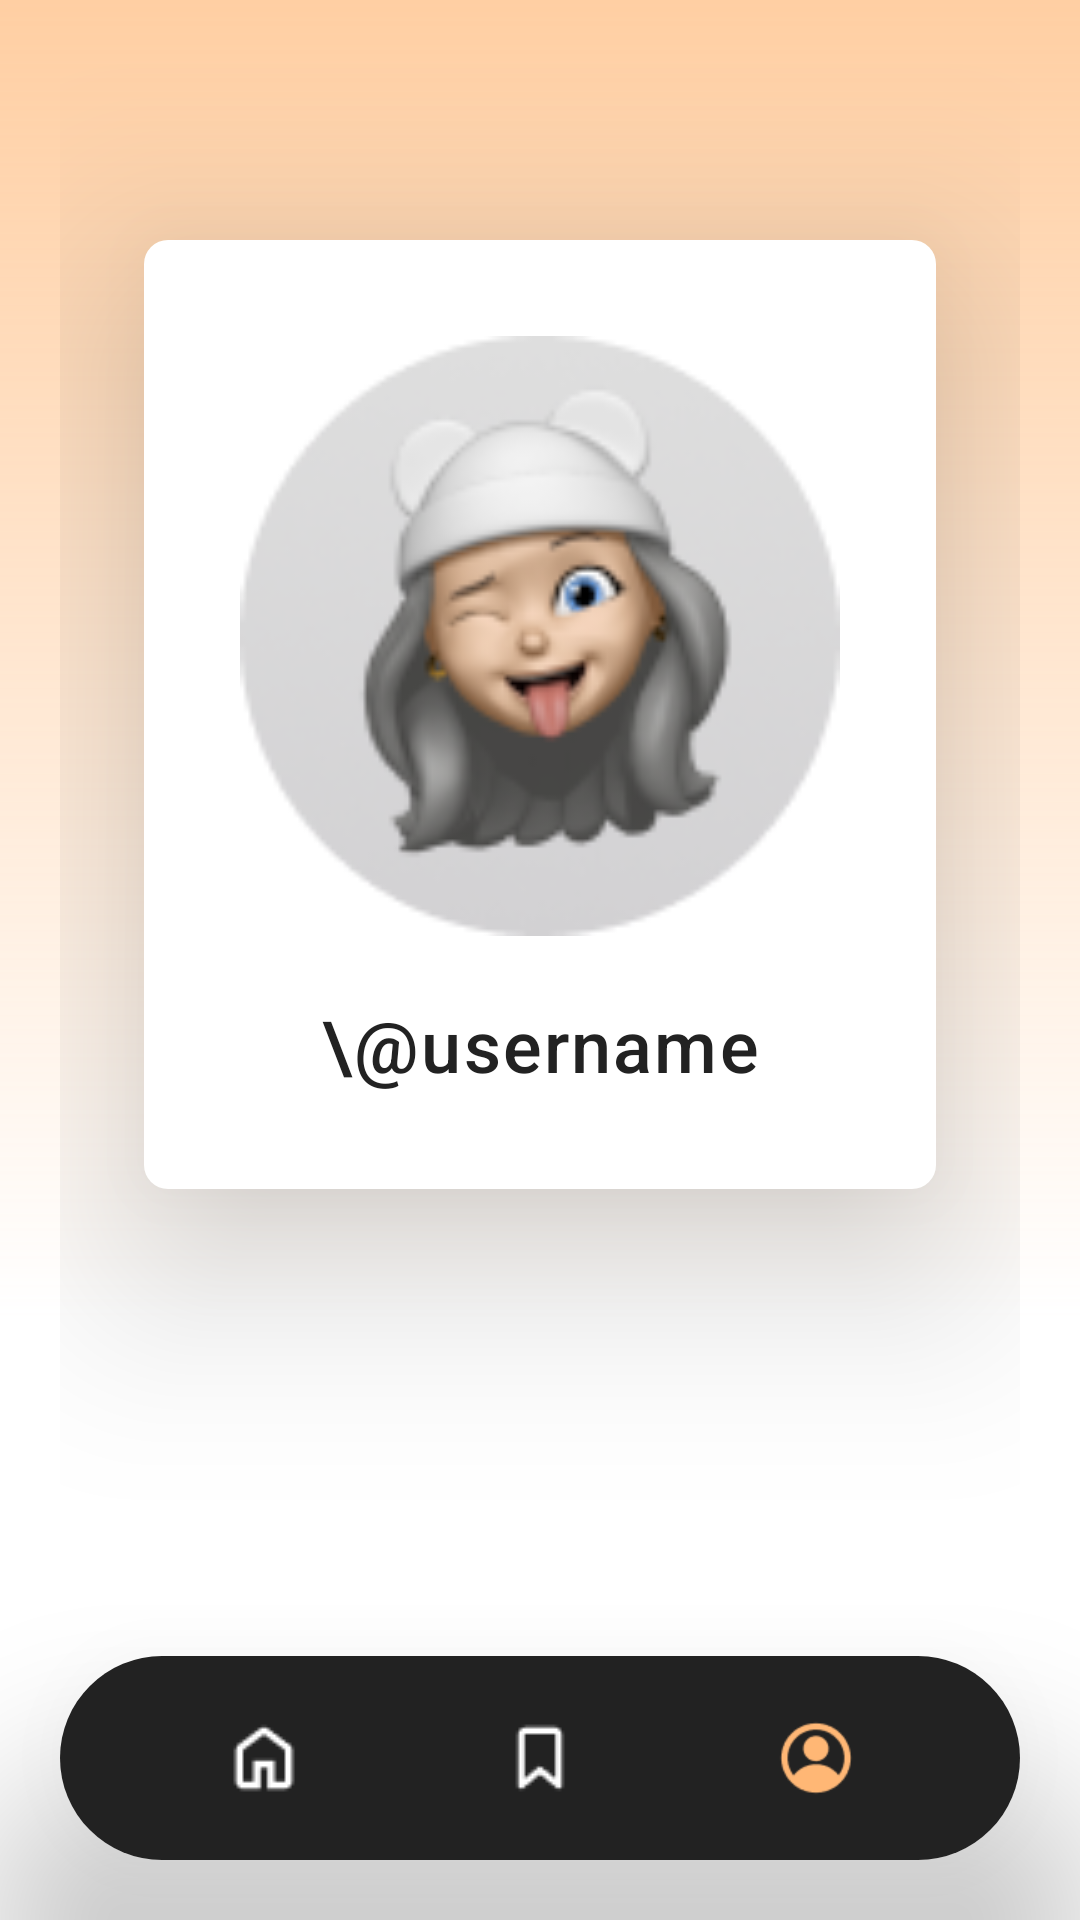

Where to tap for icons on this 1080 x 1920 app screen, as [x,y]:
homeoutlined: [264,1758]
profile: [816,1758]
savedoutlined: [540,1757]
